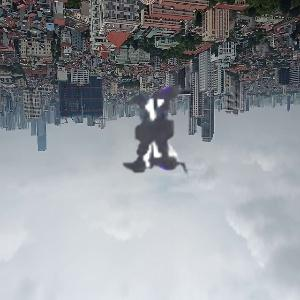drone: (50, 17, 278, 245)
